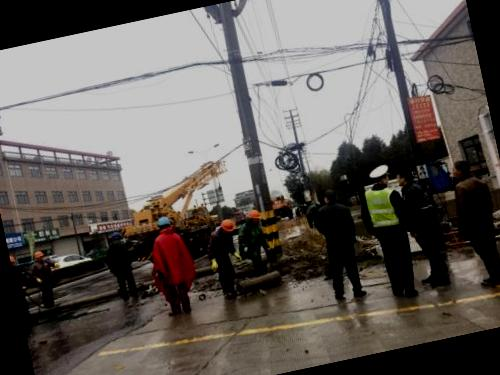no_helmet: (366, 162, 394, 194), (448, 157, 474, 183), (393, 164, 417, 189), (318, 184, 340, 206)
